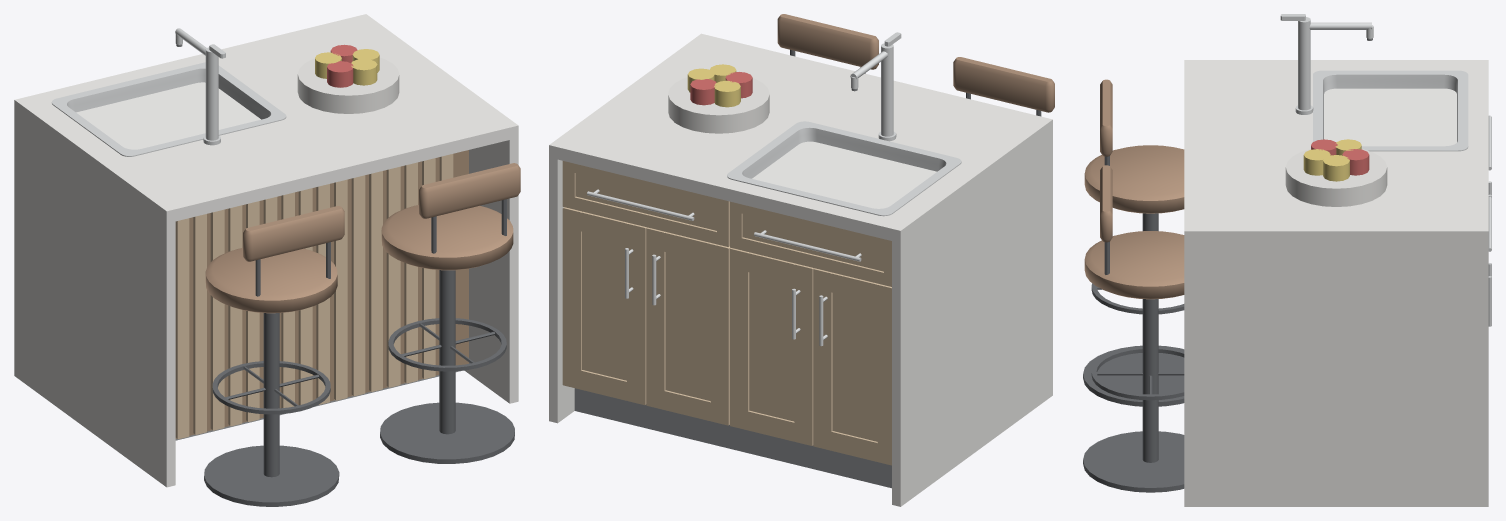
3 views of the same model, side by side, from view 1: azimuth 30°, elevation 25°; view 2: azimuth 150°, elevation 25°; view 3: azimuth 270°, elevation 25° (orthographic).
Visible parts, largest first — view 1: Đảo bếp Dài=1200; Rộng=900; view 2: Đảo bếp Dài=1200; Rộng=900; view 3: Đảo bếp Dài=1200; Rộng=900.
Boxes of the visible parts, x1,y1,x2,y2 form: Đảo bếp Dài=1200; Rộng=900: (14,14,520,506); Đảo bếp Dài=1200; Rộng=900: (549,14,1054,506); Đảo bếp Dài=1200; Rộng=900: (1083,14,1491,506).
Bounding box in the file's own units: 1.2 × 1.21 × 1.21.
